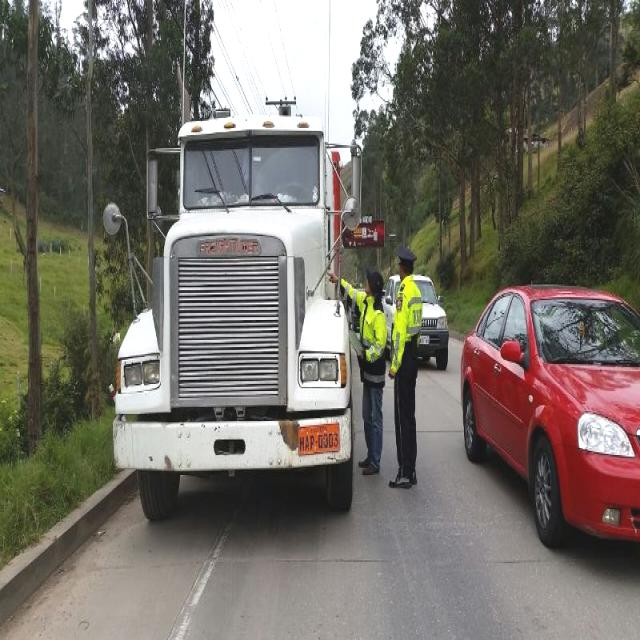SED: (460, 277, 640, 560)
TRUCK: (126, 117, 354, 519)
